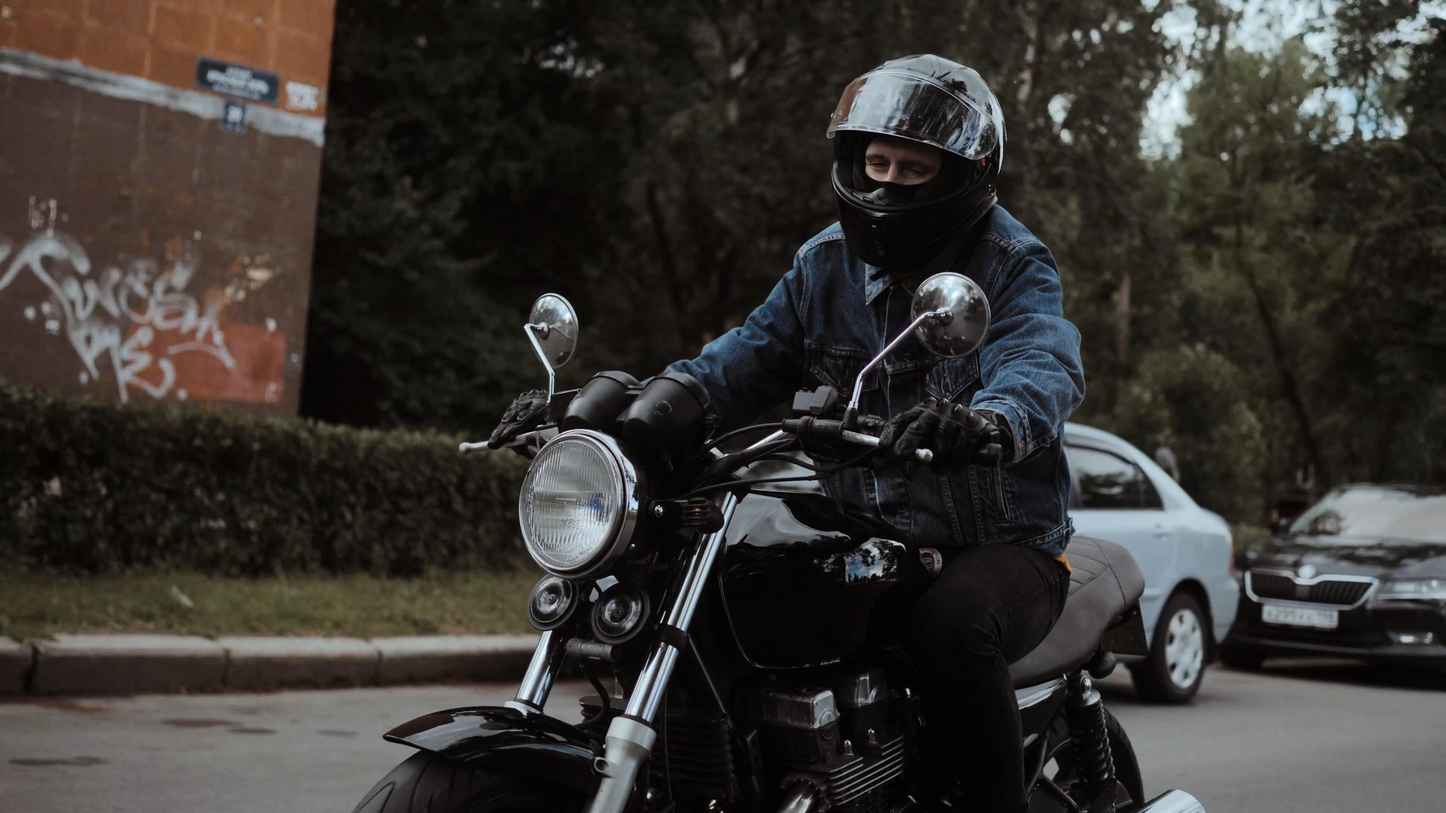driver: (348, 53, 1204, 813)
helmet: (826, 52, 1007, 281)
